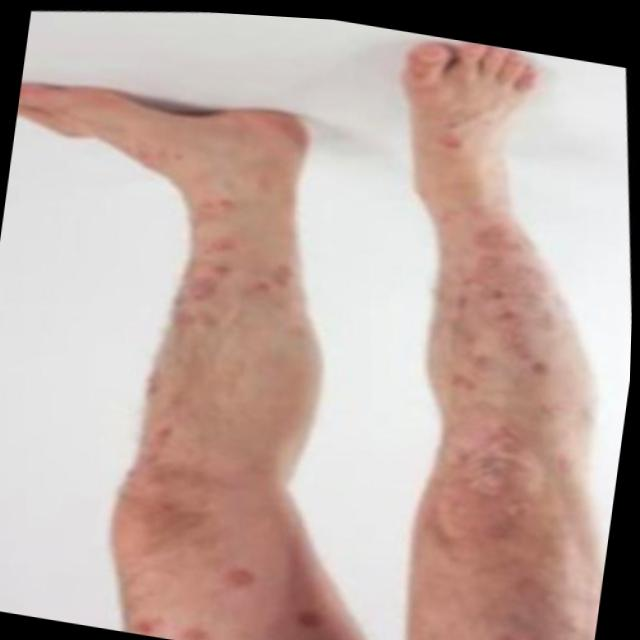Eczema: (387, 135, 616, 640), (132, 192, 309, 640)
